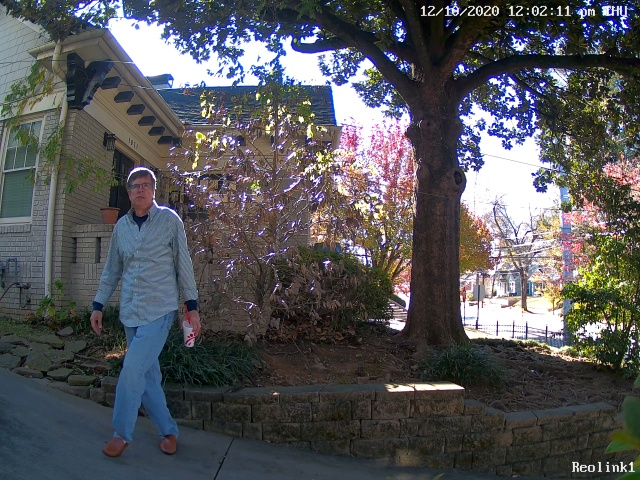person: (77, 148, 211, 480)
